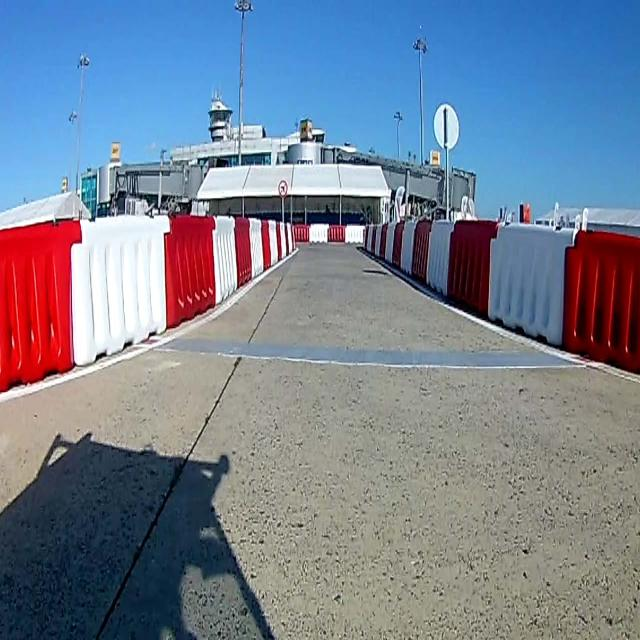soladonulmez: (277, 180, 287, 198)
